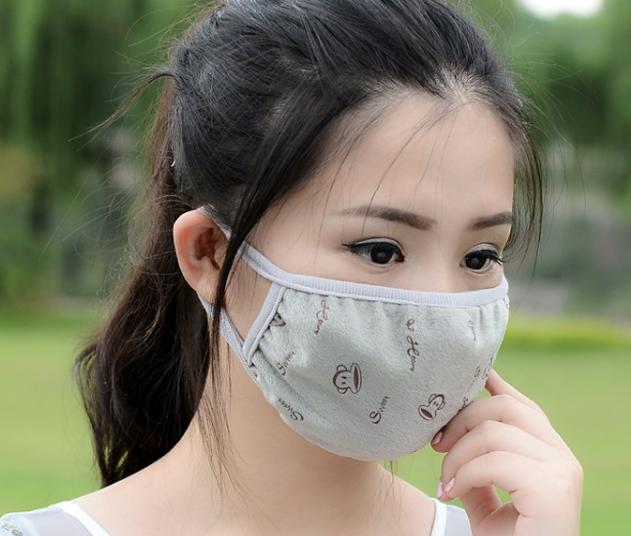face_mask: (245, 128, 512, 463)
